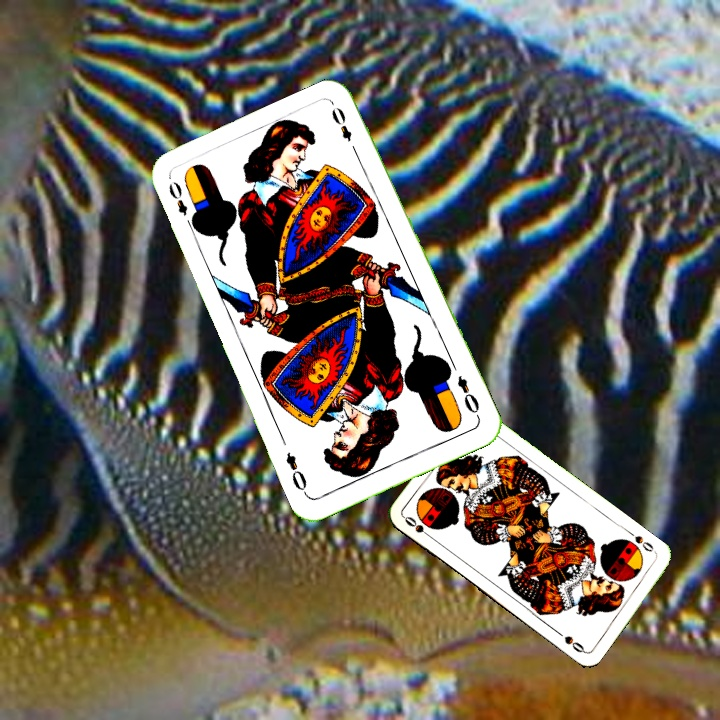EO: (164, 177, 197, 232), (452, 371, 482, 421)
SO: (400, 512, 436, 542), (625, 527, 656, 554)
